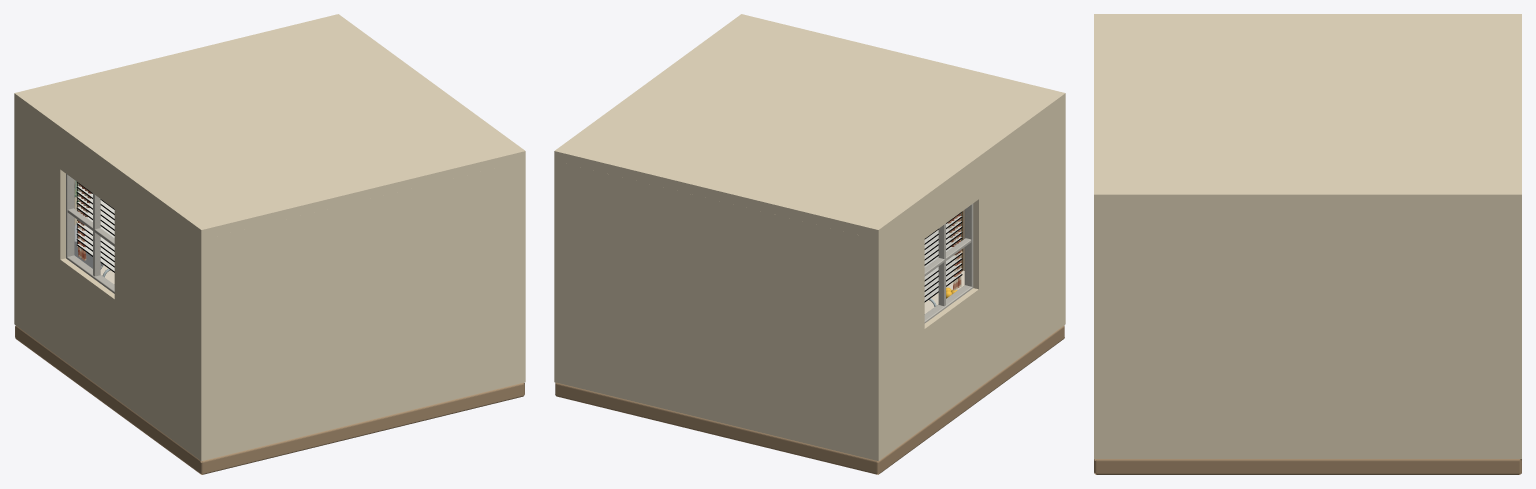
The model's file is kitchen.glb.
The picture shows the model from 3 angles, left to right: view 1: azimuth 30°, elevation 25°; view 2: azimuth 150°, elevation 25°; view 3: azimuth 270°, elevation 25°; orthographic projection. The views are drawn at different scales.
Visible parts, largest first — view 1: enclosure_front_wall, enclosure_ceiling, r15_window_wall_quad_ring, floor_plinth, window_side.001, window_mullion; view 2: r15_back_wall_simple_box, enclosure_ceiling, r15_window_wall_quad_ring, floor_plinth, window_side, window_mullion, enclosure_right_wall; view 3: enclosure_right_wall, enclosure_ceiling, floor_plinth.
Part boxes in pixels (left/top/right/bottom): enclosure_front_wall: left=196, top=161, right=525, bottom=461; enclosure_ceiling: left=14, top=14, right=525, bottom=239; r15_window_wall_quad_ring: left=14, top=103, right=201, bottom=458; floor_plinth: left=15, top=325, right=524, bottom=474; window_side.001: left=66, top=174, right=74, bottom=258; window_mullion: left=93, top=193, right=100, bottom=276; r15_back_wall_simple_box: left=554, top=161, right=868, bottom=458; enclosure_ceiling: left=554, top=14, right=1065, bottom=239; r15_window_wall_quad_ring: left=869, top=103, right=1065, bottom=460; floor_plinth: left=555, top=325, right=1064, bottom=474; window_side: left=964, top=203, right=973, bottom=286; window_mullion: left=938, top=223, right=945, bottom=306; enclosure_right_wall: left=554, top=162, right=563, bottom=382; enclosure_right_wall: left=1094, top=206, right=1521, bottom=458; enclosure_ceiling: left=1094, top=14, right=1521, bottom=205; floor_plinth: left=1094, top=459, right=1521, bottom=474.
Bounding box in the file's own units: 4.14 × 3 × 4.14.
Materials: 87 (44 with a texture image).
